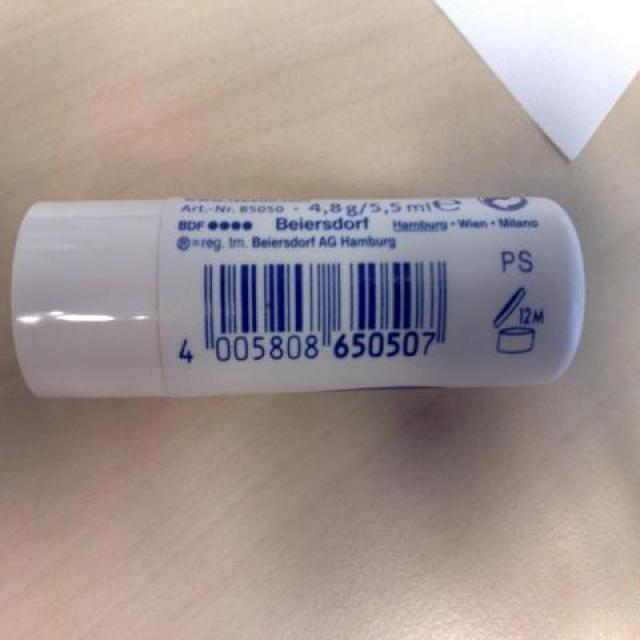Barcode: (170, 255, 457, 376)
